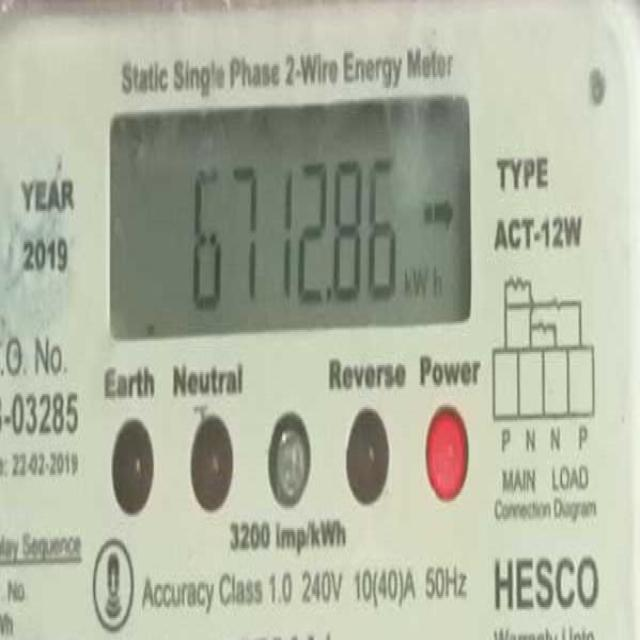1: (282, 168, 294, 308)
2: (300, 152, 326, 305)
6: (187, 158, 230, 313), (367, 158, 399, 300)
7: (232, 162, 262, 305)
8: (331, 159, 365, 301)
Digital meter: (110, 108, 472, 335)
point: (324, 282, 336, 307)
